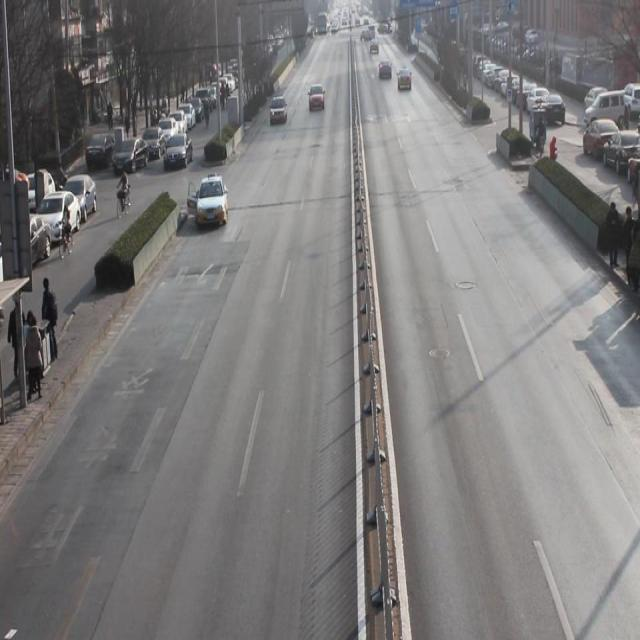car: (193, 177, 230, 235), (268, 96, 287, 134), (307, 86, 326, 121), (378, 60, 393, 89), (398, 71, 413, 97)
